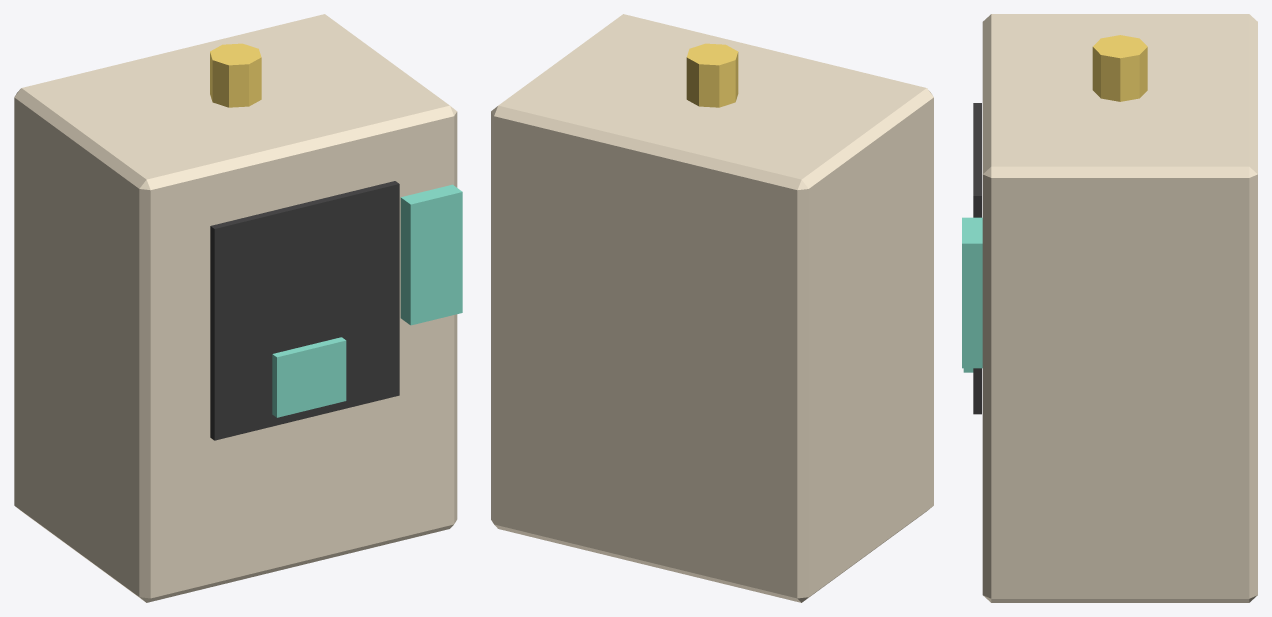
The picture shows the model from 3 angles, left to right: view 1: azimuth 30°, elevation 25°; view 2: azimuth 150°, elevation 25°; view 3: azimuth 270°, elevation 25°; orthographic projection. The views are drawn at different scales.
Visible parts, largest first — view 1: Machine, Cabinet window, Control panel, Workpiece, Warning lamp; view 2: Machine, Warning lamp; view 3: Machine, Warning lamp, Control panel, Cabinet window.
Boxes of the visible parts, <box> form: Machine: <box>14,14,457,602</box>; Cabinet window: <box>210,181,399,440</box>; Control panel: <box>400,184,462,325</box>; Workpiece: <box>272,337,346,417</box>; Warning lamp: <box>210,43,261,107</box>; Machine: <box>491,14,933,602</box>; Warning lamp: <box>686,43,738,107</box>; Machine: <box>982,14,1257,602</box>; Warning lamp: <box>1092,35,1147,101</box>; Control panel: <box>962,217,982,368</box>; Cabinet window: <box>973,103,981,414</box>.
Bounding box in the file's own units: 110 × 154 × 86.
